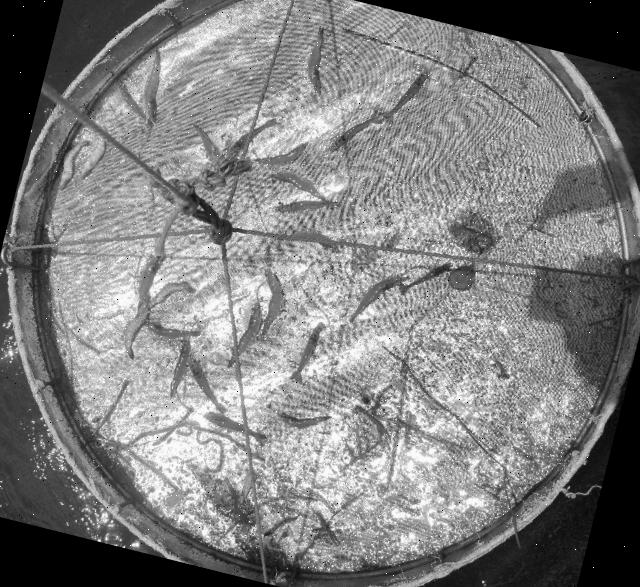shrimp: (377, 66, 430, 127), (348, 275, 408, 321), (327, 110, 384, 153), (202, 411, 269, 447), (186, 354, 226, 413), (227, 301, 262, 368), (223, 117, 278, 156), (289, 322, 323, 384), (264, 172, 331, 201), (398, 262, 452, 295), (192, 122, 228, 171), (261, 266, 285, 336), (125, 297, 151, 359), (79, 123, 107, 179), (57, 139, 88, 189), (169, 336, 191, 399), (354, 405, 391, 442), (143, 48, 161, 123), (252, 141, 309, 164), (149, 282, 193, 308), (308, 24, 324, 94), (139, 255, 163, 301), (119, 80, 146, 119), (142, 320, 202, 336), (273, 199, 343, 212), (277, 412, 333, 427)
